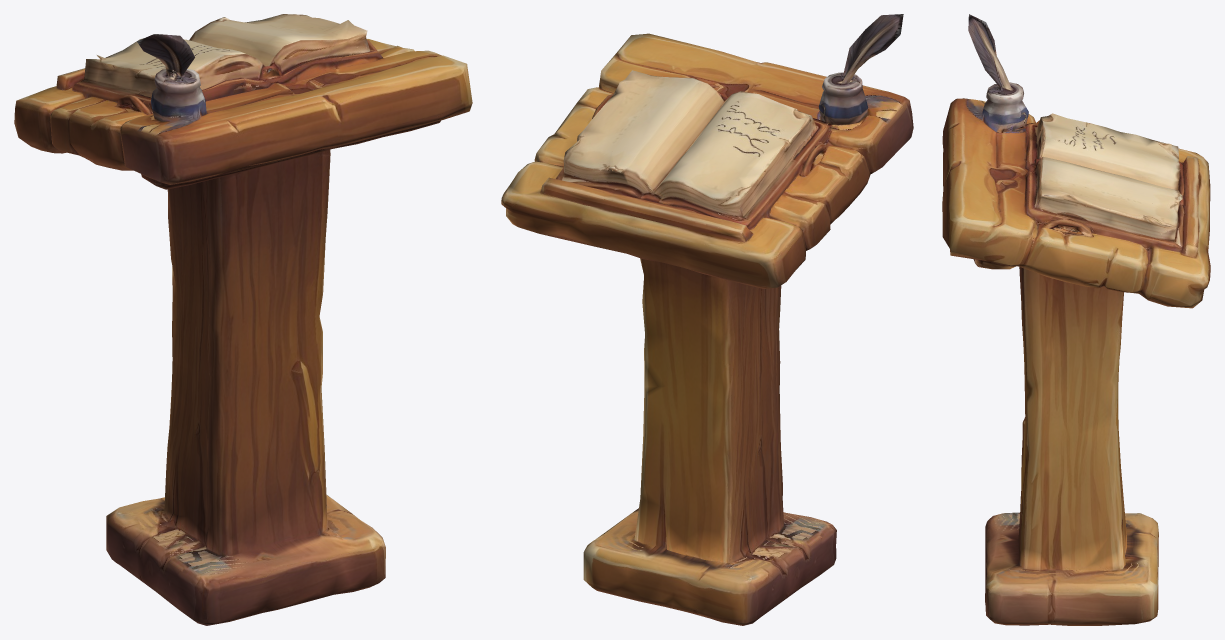
The model's file is SM_Env_ReceptionPodium.fbx.
3 renders of one model, left to right at view 1: azimuth 30°, elevation 25°; view 2: azimuth 150°, elevation 25°; view 3: azimuth 270°, elevation 25°, orthographic. The views are drawn at different scales.
Visible parts, largest first — view 1: SM_Env_ReceptionPodium; view 2: SM_Env_ReceptionPodium; view 3: SM_Env_ReceptionPodium.
Boxes of the visible parts, box(x1,y1,x2,y2) form: SM_Env_ReceptionPodium: box(14, 14, 472, 625); SM_Env_ReceptionPodium: box(501, 14, 913, 625); SM_Env_ReceptionPodium: box(942, 14, 1210, 625).
Bounding box in the file's own units: 0.5886 × 1.1 × 0.5193.
